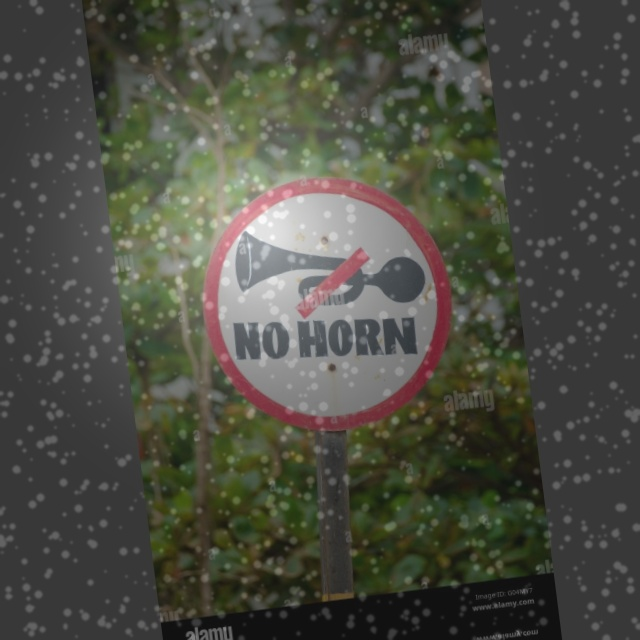Horn_Prohibited: (194, 158, 464, 448)
